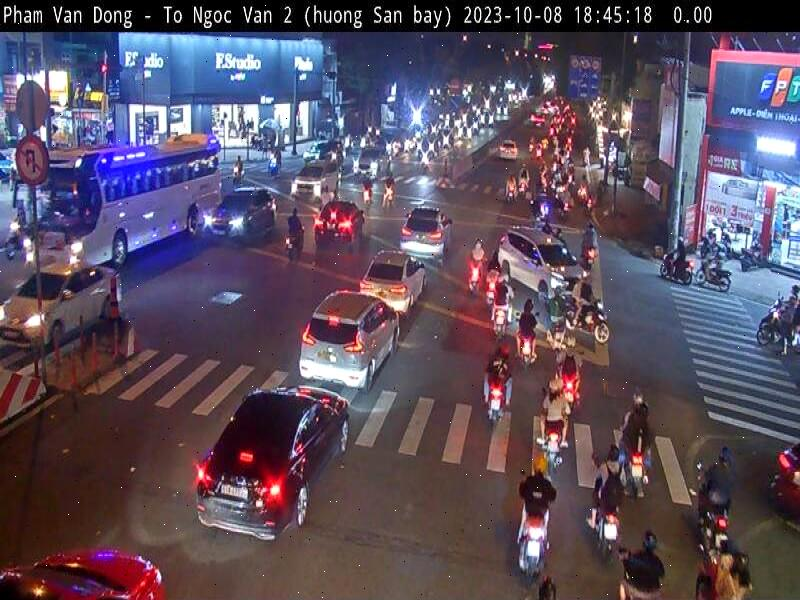bus: (2, 130, 225, 264)
car: (193, 390, 348, 541), (2, 511, 168, 600), (294, 290, 403, 400), (2, 256, 122, 348), (496, 218, 588, 300), (207, 189, 278, 243), (360, 250, 419, 312), (768, 428, 800, 537), (520, 452, 557, 523), (399, 210, 450, 261), (317, 200, 367, 243), (291, 152, 339, 196), (351, 145, 398, 174), (496, 141, 518, 162)
motorcycle: (500, 506, 556, 582), (587, 505, 620, 565), (755, 289, 783, 355), (481, 369, 507, 438), (691, 507, 729, 550), (583, 292, 608, 351), (660, 246, 693, 289), (540, 422, 568, 472), (698, 258, 736, 294), (622, 453, 650, 497), (484, 305, 514, 343), (737, 237, 767, 274), (467, 258, 487, 299)
